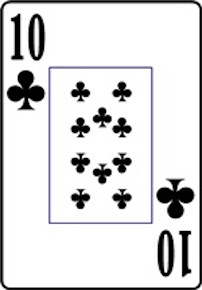TenOfClubs: (4, 5, 200, 282)
